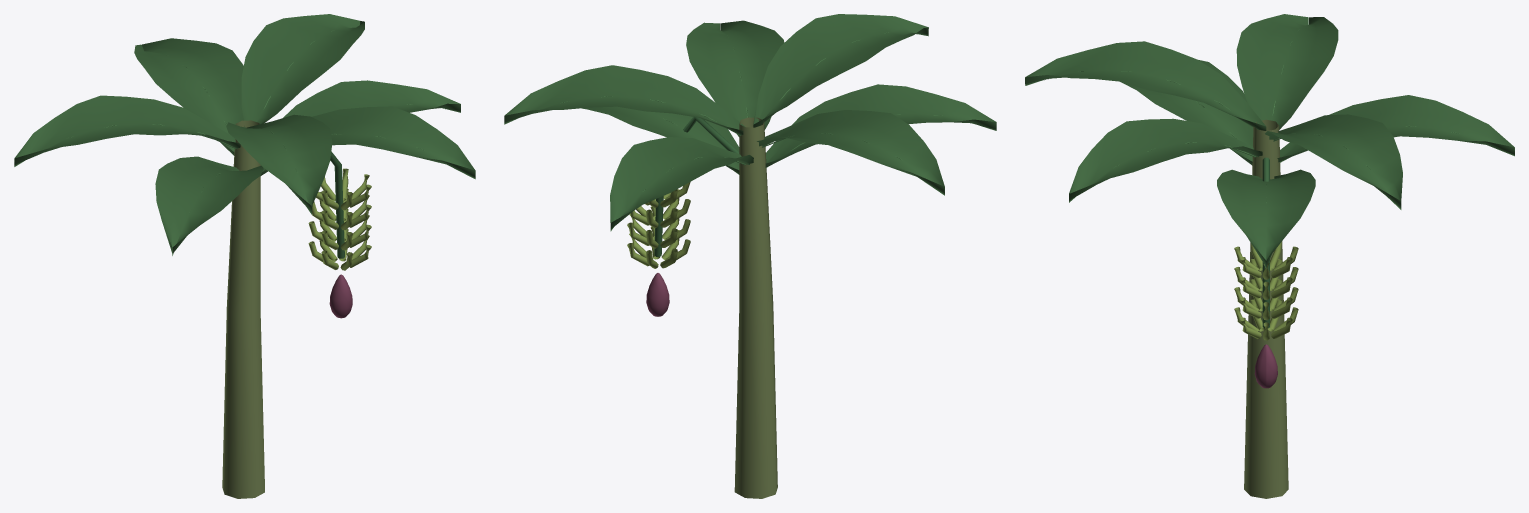
The model's file is banano.glb.
The picture shows the model from 3 angles, left to right: view 1: azimuth 30°, elevation 25°; view 2: azimuth 150°, elevation 25°; view 3: azimuth 270°, elevation 25°; orthographic projection.
Visible parts, largest first — view 1: banano; view 2: banano; view 3: banano.
Part boxes in pixels (bbox=[...]): banano: bbox=[14, 14, 475, 498]; banano: bbox=[504, 14, 996, 498]; banano: bbox=[1025, 14, 1514, 498].
Bounding box in the file's own units: 2.88 × 2.66 × 2.85.
